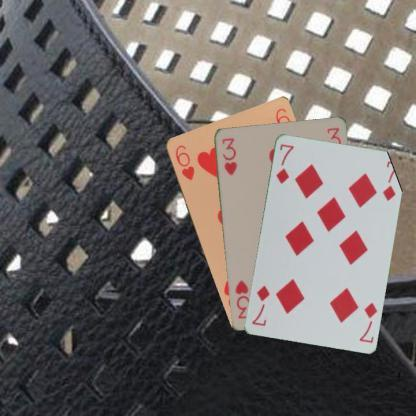3h: (219, 135, 238, 177)
6h: (172, 142, 196, 182)
7d: (274, 140, 296, 184), (356, 300, 378, 344)
